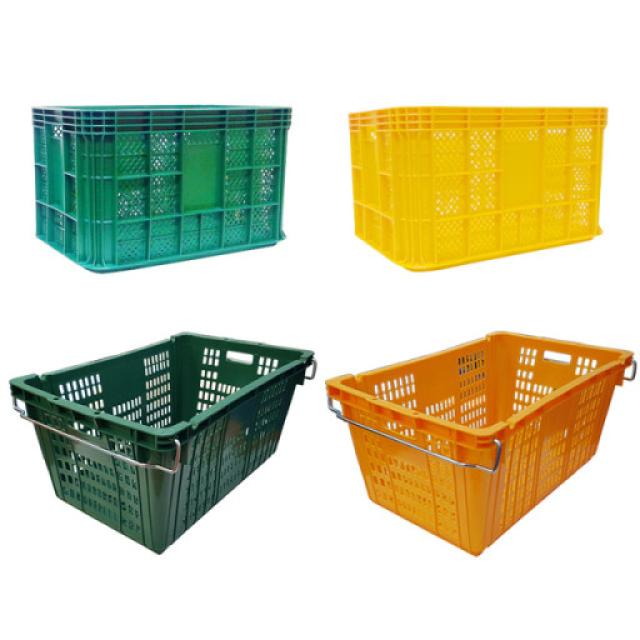basket: (7, 308, 346, 578), (32, 103, 291, 274), (349, 105, 609, 272)
